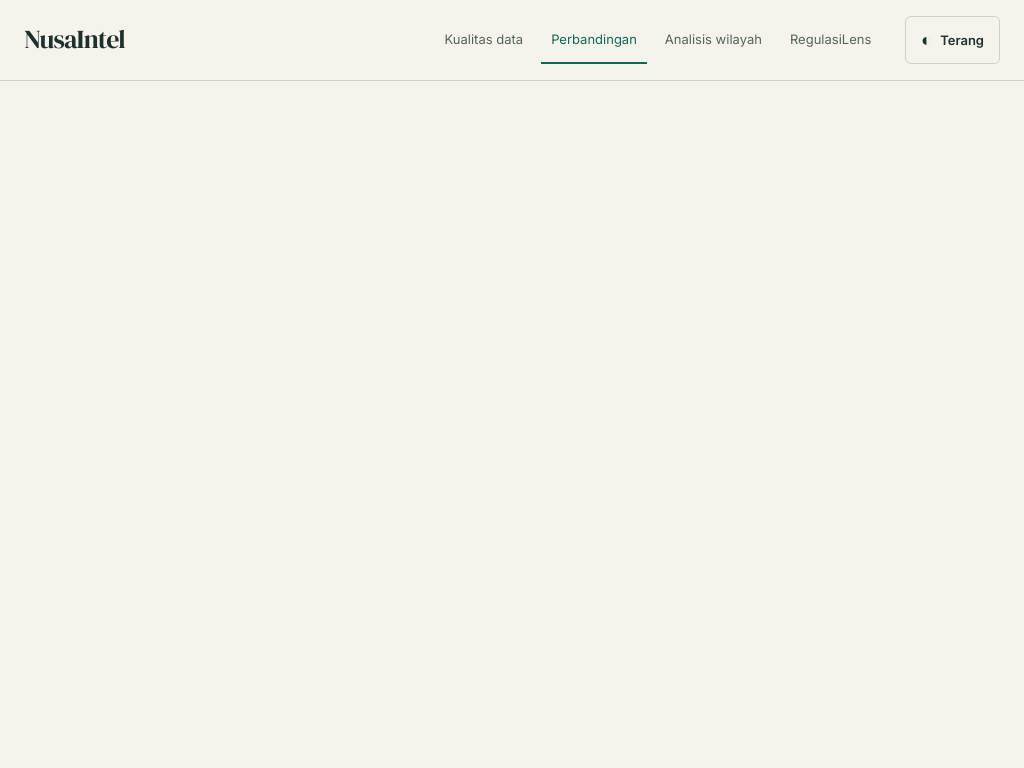
Test: SiteHeader theme switcher › keeps its label visible and persists the selected theme
Step 1. Click the button with aria-label "Tema gelap" → (953, 40), box [905, 16, 1000, 64]
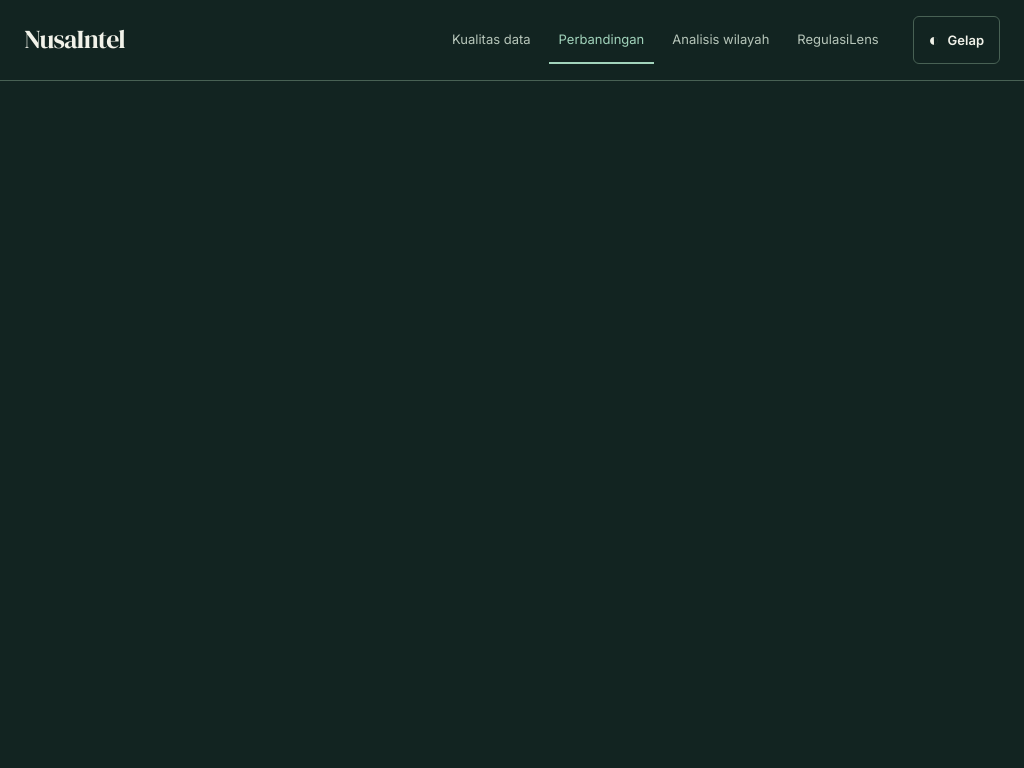
Check: the button with aria-label "Tema gelap" shows "Gelap", box [913, 16, 1000, 64]
